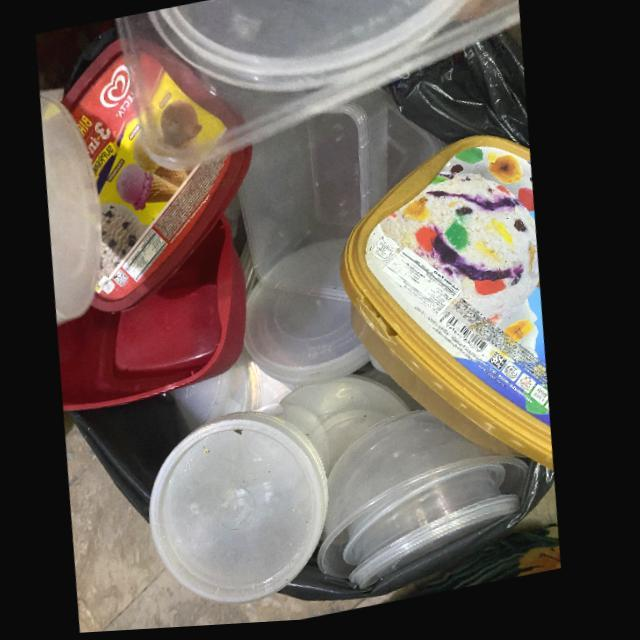plastic: (346, 143, 562, 484), (116, 0, 522, 175), (64, 41, 256, 315), (326, 416, 537, 593), (62, 218, 252, 414), (155, 420, 338, 610), (242, 95, 392, 309), (249, 241, 376, 394), (41, 89, 108, 329), (264, 381, 418, 481), (386, 113, 454, 197)
